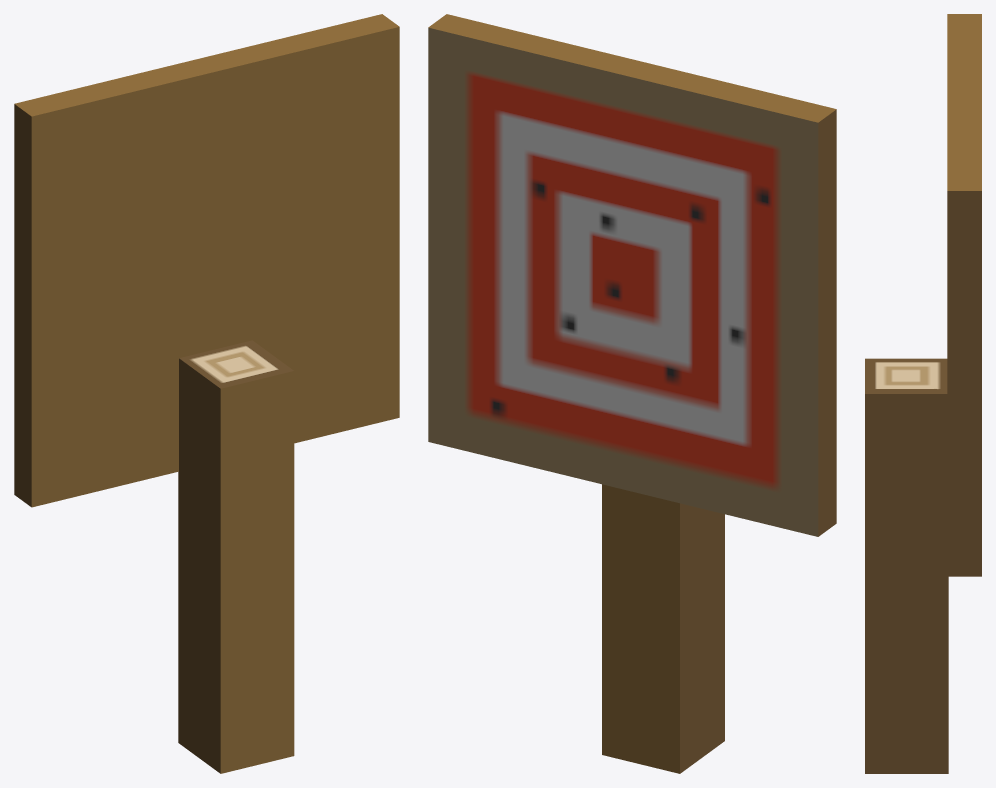
File: SM_Prop_Target_01.fbx
3 renders of one model, left to right at view 1: azimuth 30°, elevation 25°; view 2: azimuth 150°, elevation 25°; view 3: azimuth 270°, elevation 25°, orthographic. The views are drawn at different scales.
Visible parts, largest first — view 1: SM_Prop_Target_01; view 2: SM_Prop_Target_01; view 3: SM_Prop_Target_01.
Boxes of the visible parts, x1,y1,x2,y2 form: SM_Prop_Target_01: (14,14,399,773); SM_Prop_Target_01: (428,14,836,773); SM_Prop_Target_01: (865,14,981,773).
Bounding box in the file's own units: 1.43 × 2.46 × 0.3988.
